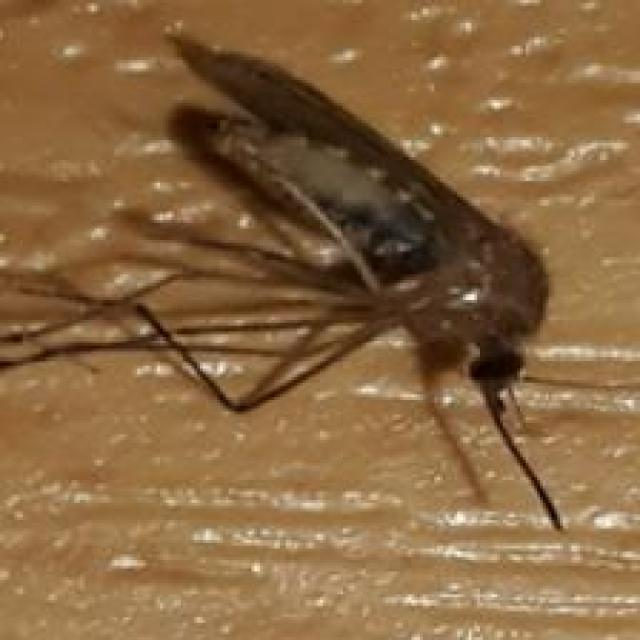Culex: (0, 24, 569, 533)
